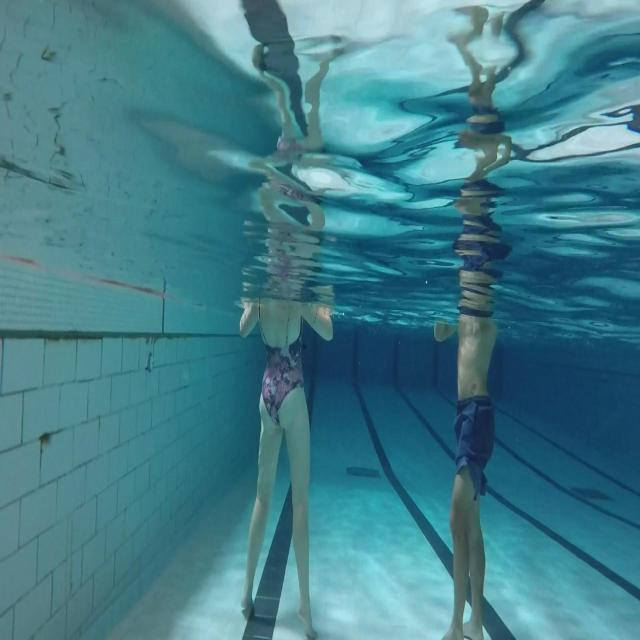human: (421, 279, 512, 640), (233, 295, 327, 640)
